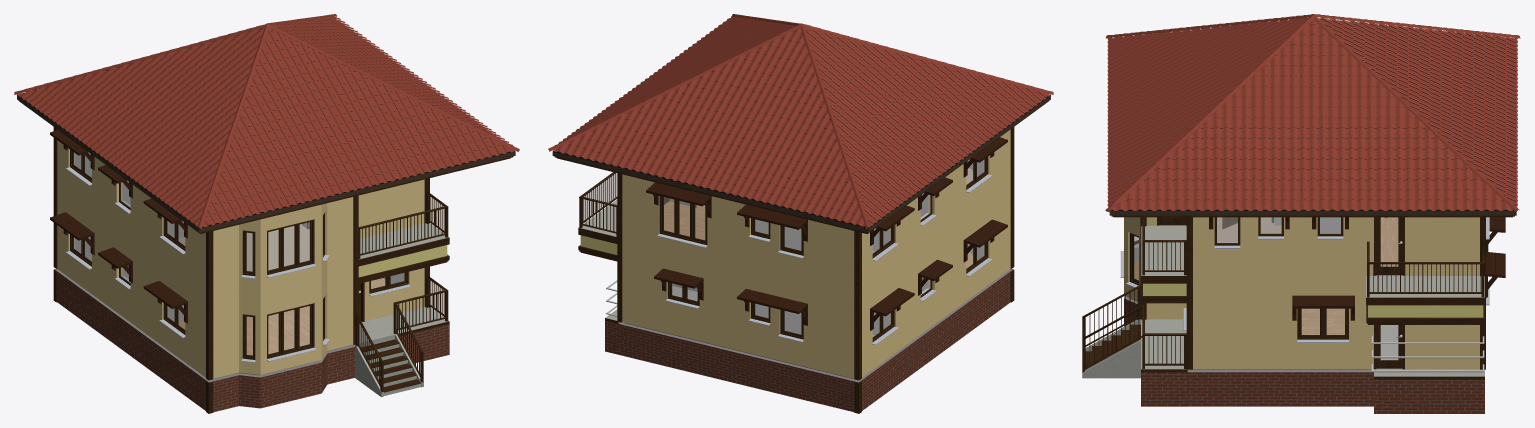
File: realistic-house-with-interior.glb
The picture shows the model from 3 angles, left to right: view 1: azimuth 30°, elevation 25°; view 2: azimuth 150°, elevation 25°; view 3: azimuth 270°, elevation 25°; orthographic projection. The views are drawn at different scales.
Visible parts, largest first — view 1: Plane.019, walls.001, walls, roof, walls.003, Cube.012, Plane.015, Window, Window.019, Cube.021, Stairs.003, Plane (+10 smaller); view 2: Plane.019, walls.001, walls, roof, walls.003, Window.013, Cube.026, Plane.011, Plane.018, Window.018, Window.006, Window.008 (+5 smaller); view 3: Plane.019, walls.001, walls, roof, Plane.016, Plane.015, Plane.018, Cube.012, walls.003, Cube.026, Window.009, Door.006 (+12 smaller).
Part boxes in pixels (x1,y1,x2,y2): Plane.019: (14, 14, 519, 228); walls.001: (55, 185, 424, 412); walls: (53, 127, 449, 413); roof: (17, 19, 515, 233); walls.003: (50, 130, 187, 323); Cube.012: (355, 275, 448, 392); Plane.015: (359, 307, 449, 362); Window: (267, 303, 316, 361); Window.019: (267, 219, 316, 277); Cube.021: (358, 192, 448, 258); Stairs.003: (361, 339, 421, 395); Plane: (178, 278, 385, 355); Plane.019: (548, 14, 1053, 228); walls.001: (618, 185, 1012, 411); walls: (578, 127, 1014, 413); roof: (552, 30, 1050, 233); walls.003: (646, 137, 1007, 330); Window.013: (657, 196, 707, 247); Cube.026: (579, 172, 617, 236); Plane.011: (664, 201, 705, 239); Plane.018: (578, 235, 617, 261); Window.018: (778, 225, 803, 258); Window.006: (778, 309, 803, 342); Window.008: (665, 282, 699, 308); Plane.019: (1105, 14, 1520, 212); walls.001: (1124, 217, 1479, 406); walls: (1140, 217, 1485, 369); roof: (1109, 19, 1516, 217); Plane.016: (1374, 369, 1484, 413); Plane.015: (1141, 319, 1187, 406); Plane.018: (1141, 283, 1484, 324); Cube.012: (1082, 285, 1186, 372); walls.003: (1209, 217, 1505, 320); Cube.026: (1367, 241, 1484, 297); Window.009: (1297, 308, 1348, 342); Door.006: (1376, 217, 1402, 274).
Bounding box in the file's own units: 8.27 × 7.34 × 8.71.
Materials: 16 (5 with a texture image).
